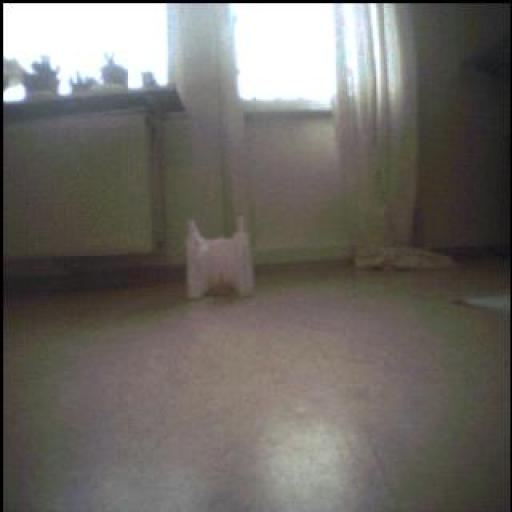Basket: (211, 273, 237, 301)
